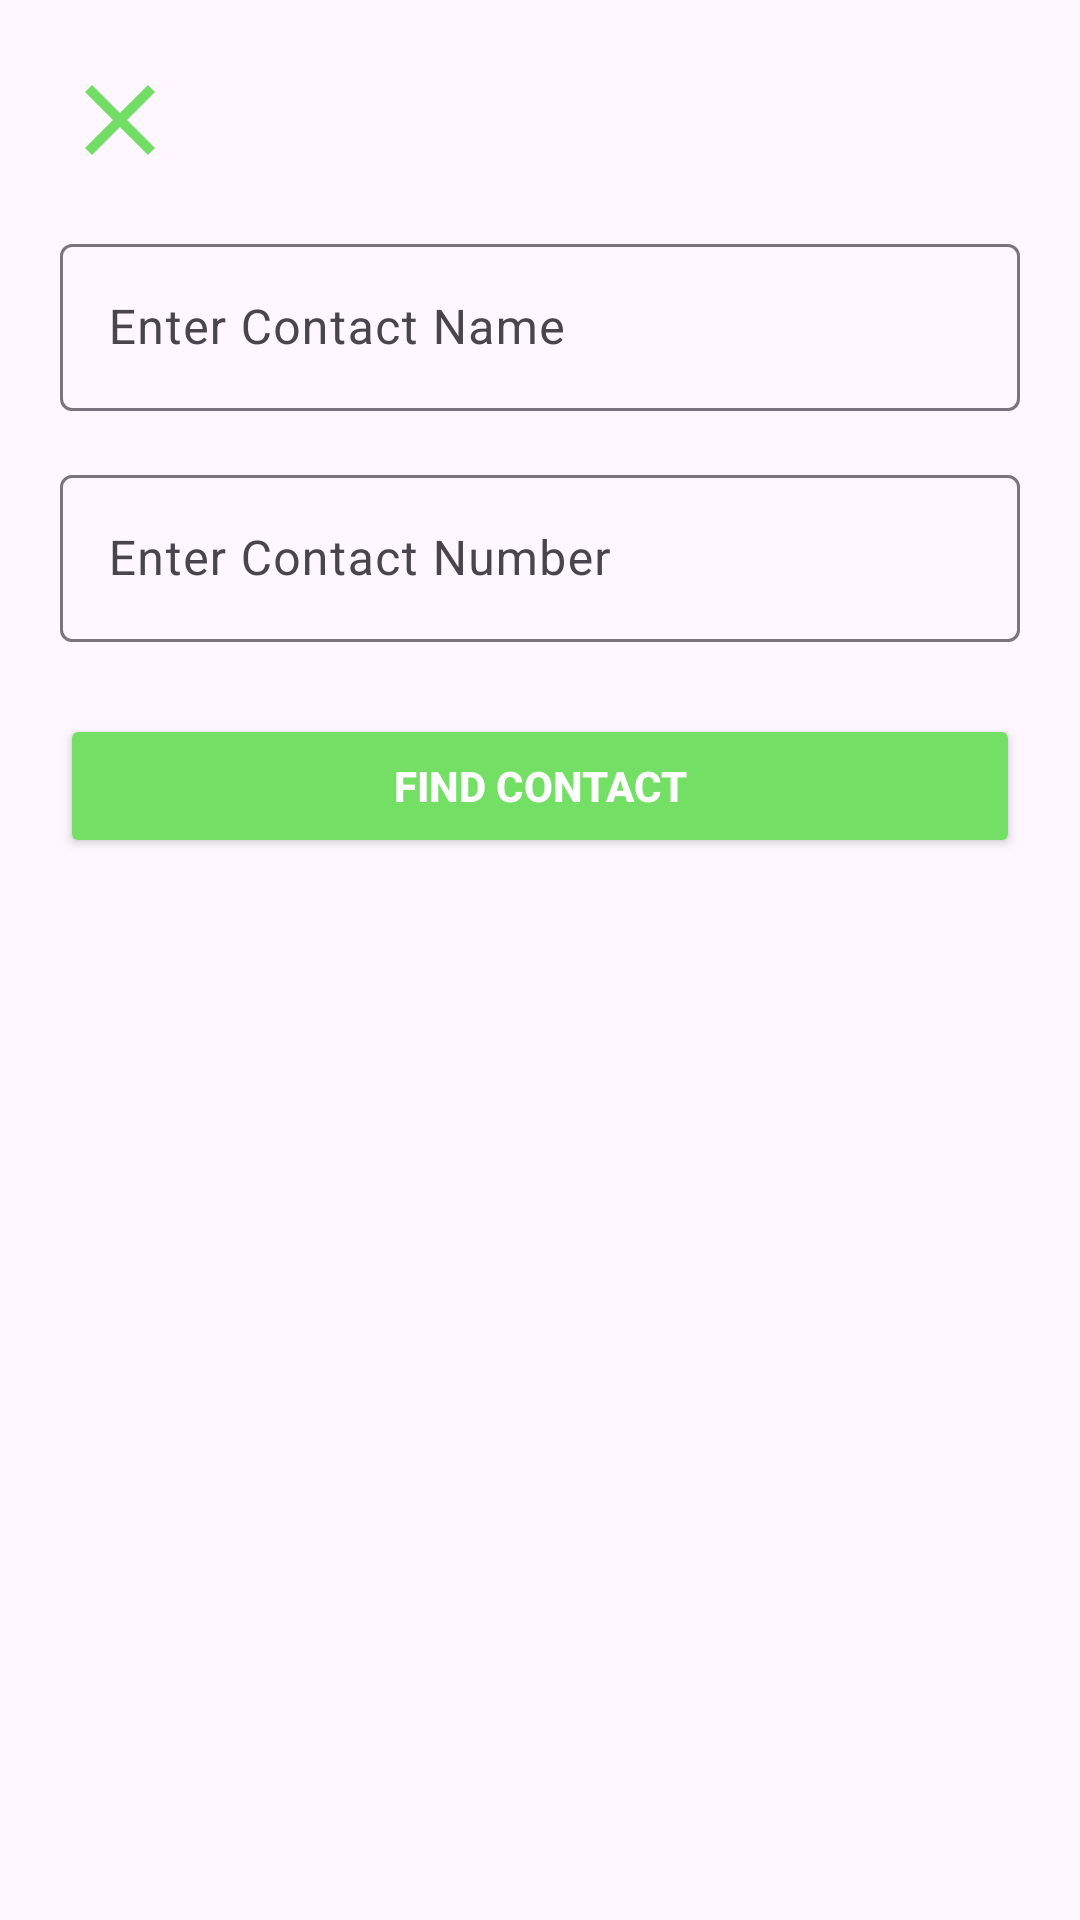

Locate icon controls on the screen. Image size 1080 x 1920, boxes as region(x1, y1, x2, y2).
Close: region(85, 85, 155, 155)
